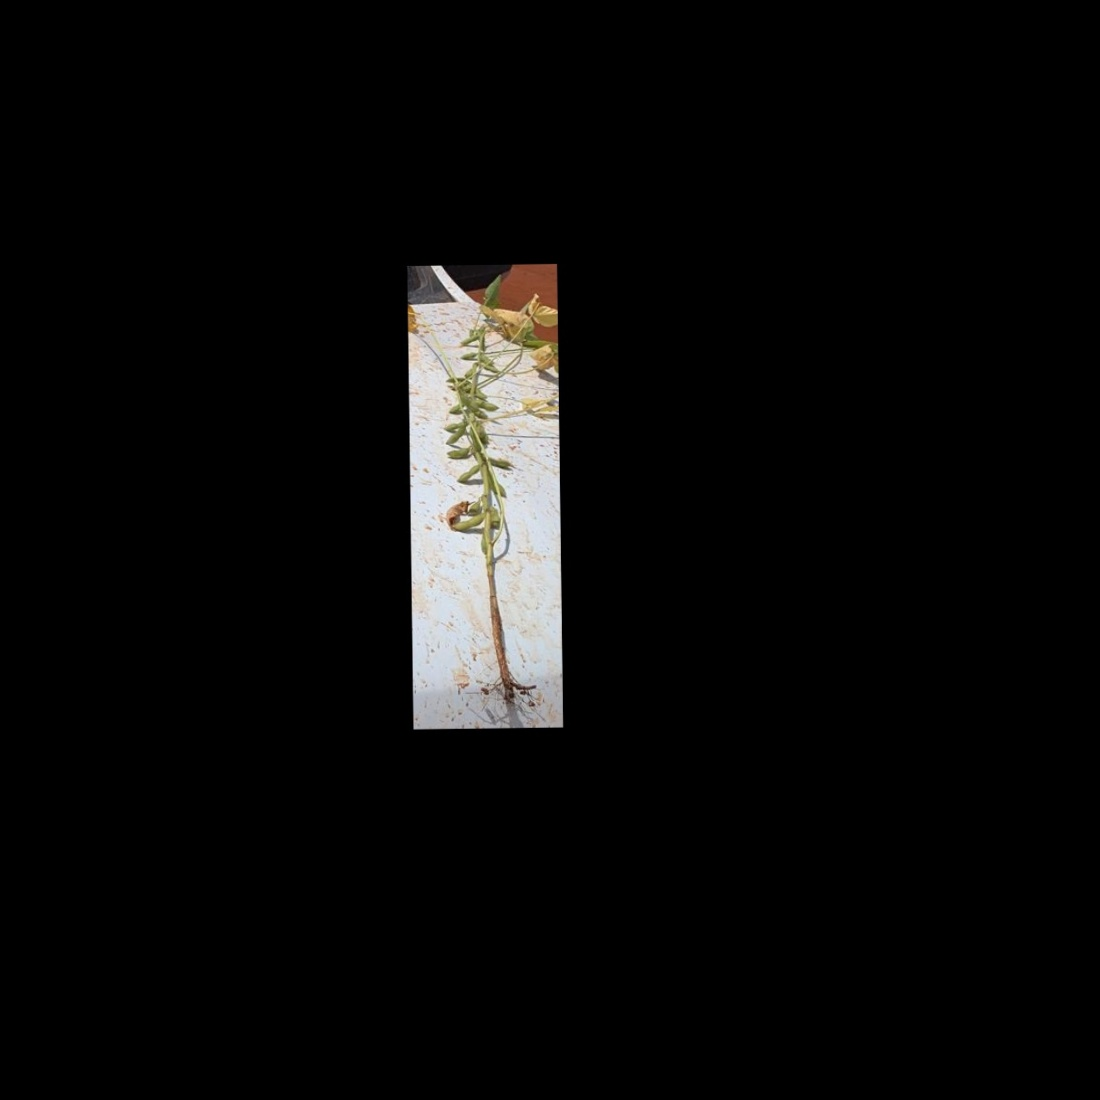pod: (446, 512, 492, 532), (455, 462, 482, 484), (442, 445, 474, 461), (474, 399, 501, 413), (441, 420, 468, 433), (457, 350, 480, 361)
soy: (427, 309, 548, 697)
